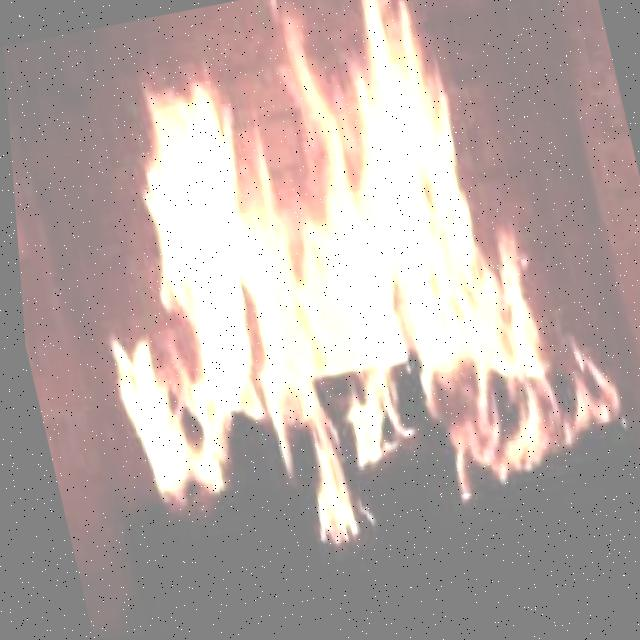Fire: (25, 0, 640, 601)
